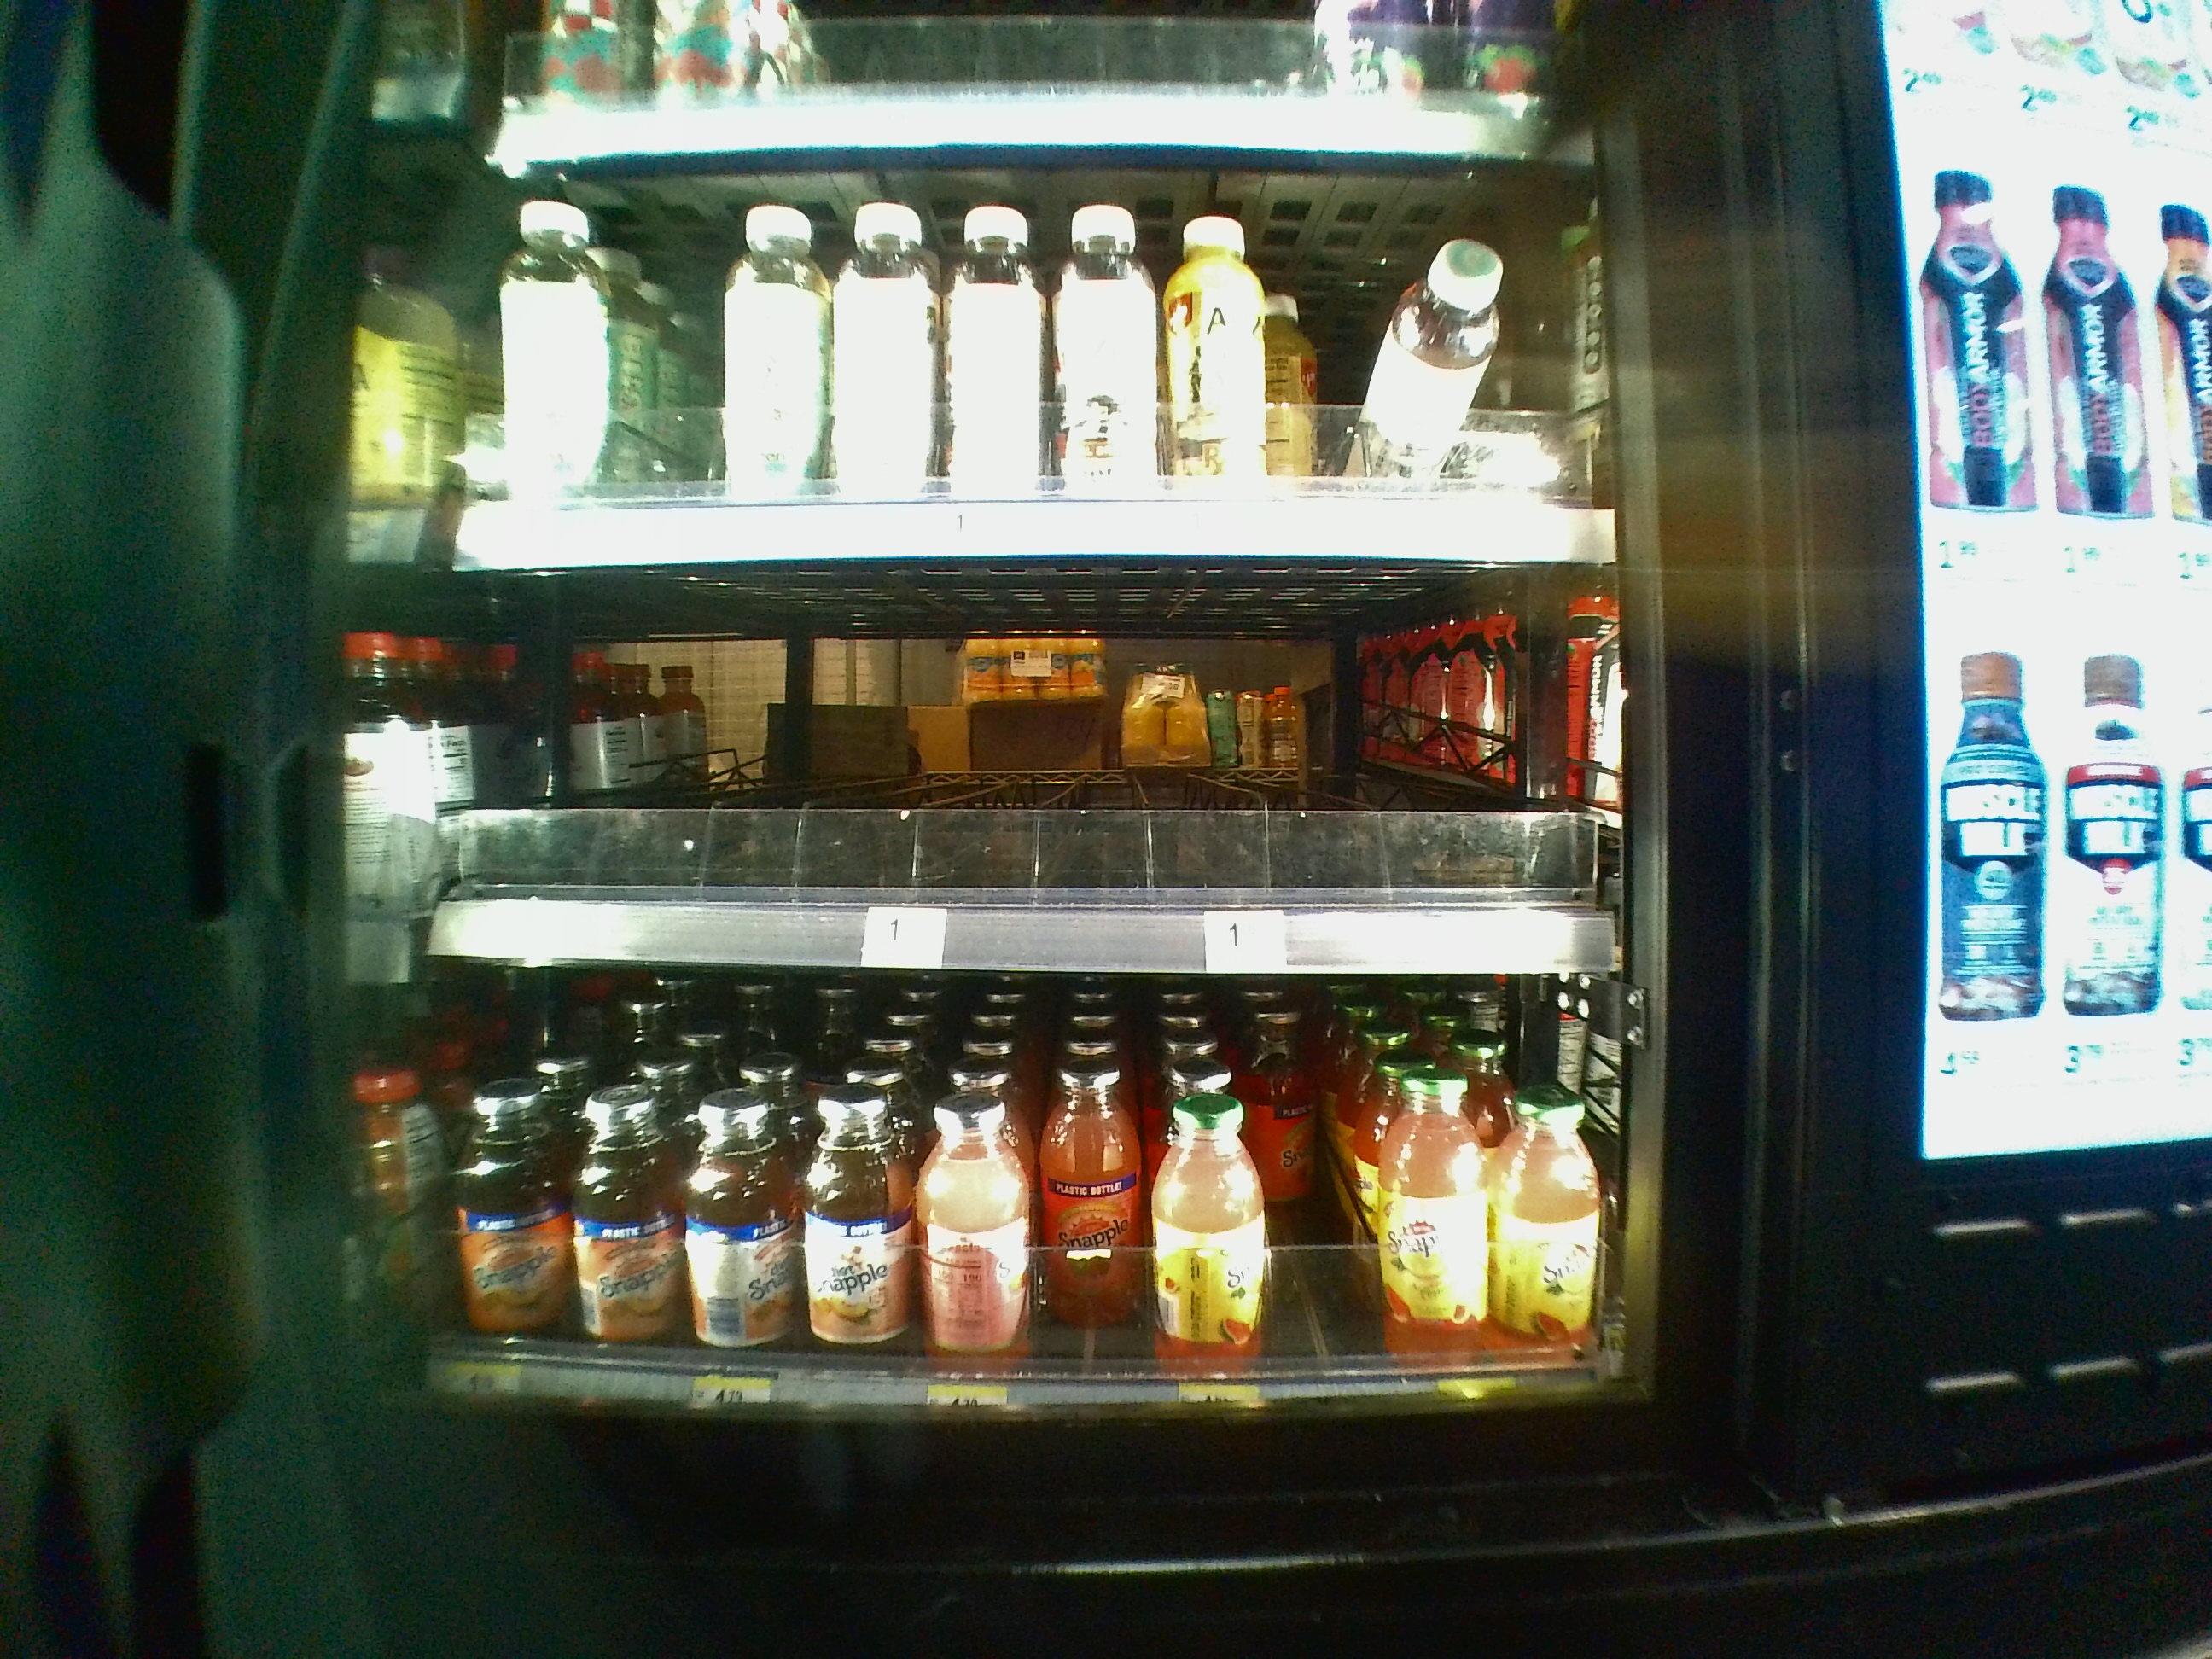shelf: (434, 985, 1629, 1474), (411, 575, 1611, 978), (416, 162, 1615, 558)
